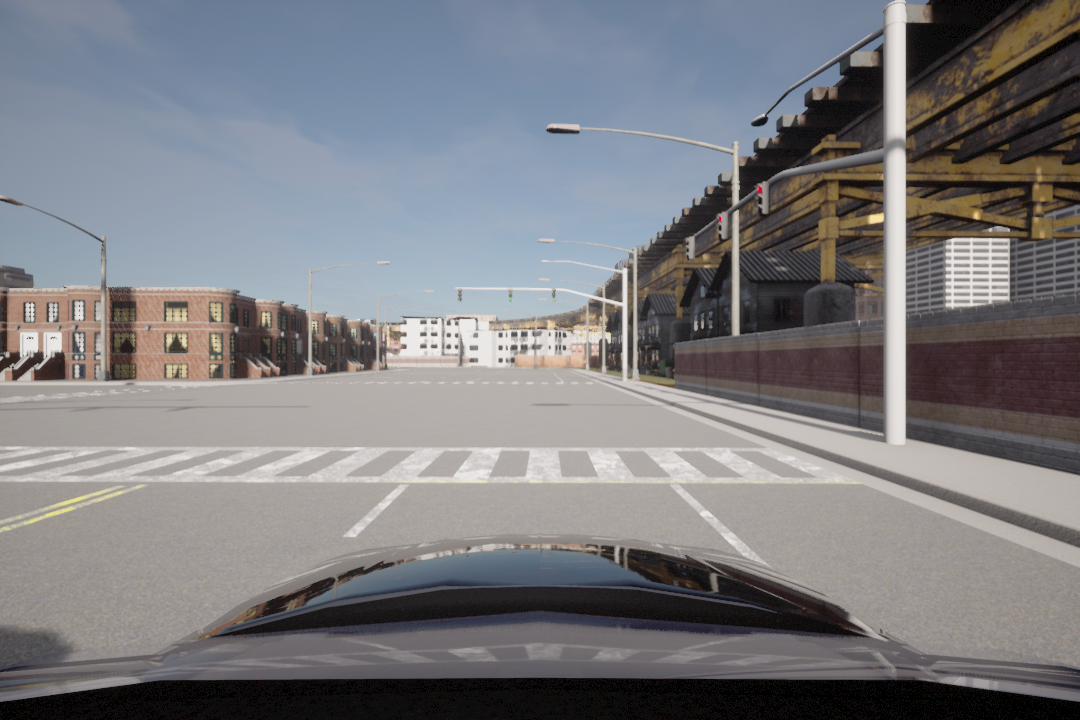TrafficLight: (714, 211, 730, 242), (680, 235, 694, 261), (507, 285, 516, 303), (456, 287, 464, 303), (550, 288, 558, 303)
walkside: (3, 442, 861, 491), (756, 181, 771, 217)
